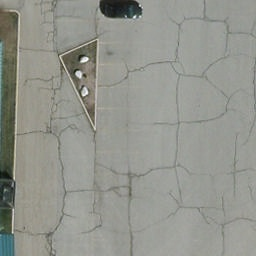car: (104, 3, 144, 19)
